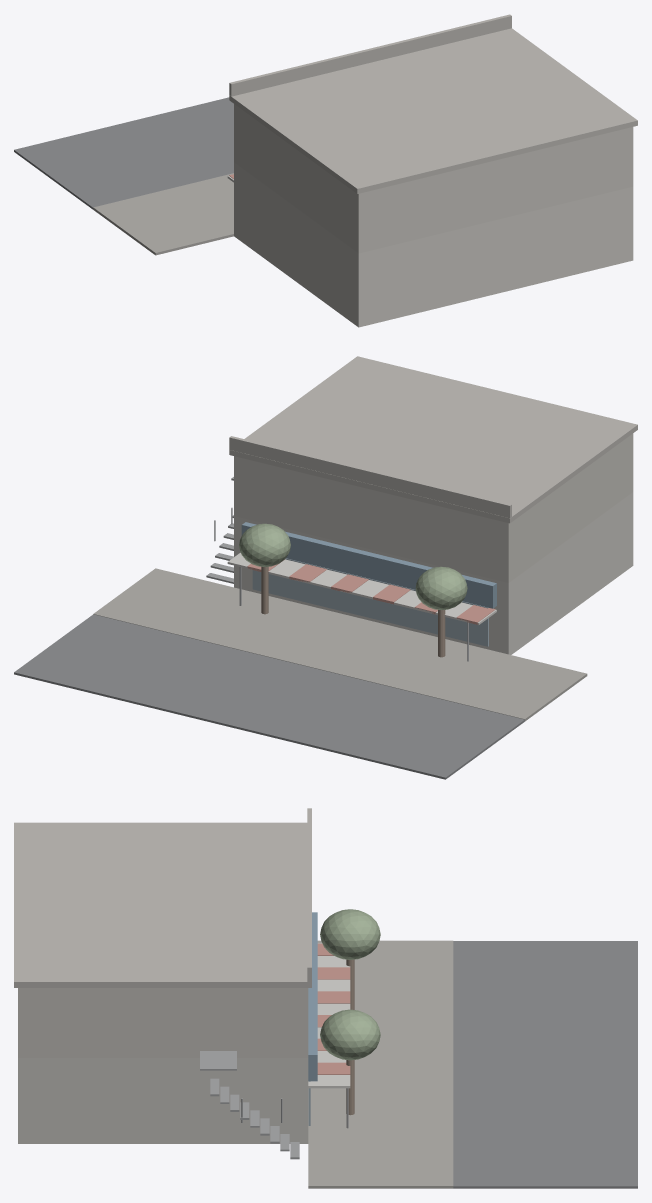
Rendered from store06_v7_whitebox.glb.
3 views of the same model, one above another, from view 1: azimuth 30°, elevation 25°; view 2: azimuth 150°, elevation 25°; view 3: azimuth 270°, elevation 25° (orthographic). The views are drawn at different scales.
Parts seen in each view (by area): view 1: geometry_0; view 2: geometry_0; view 3: geometry_0.
Part boxes in pixels (box(x1,y1,x2,y2)): geometry_0: box(14, 14, 637, 327); geometry_0: box(14, 356, 637, 779); geometry_0: box(14, 808, 637, 1188).
Bounding box in the file's own units: 22 × 7.45 × 23.65.
